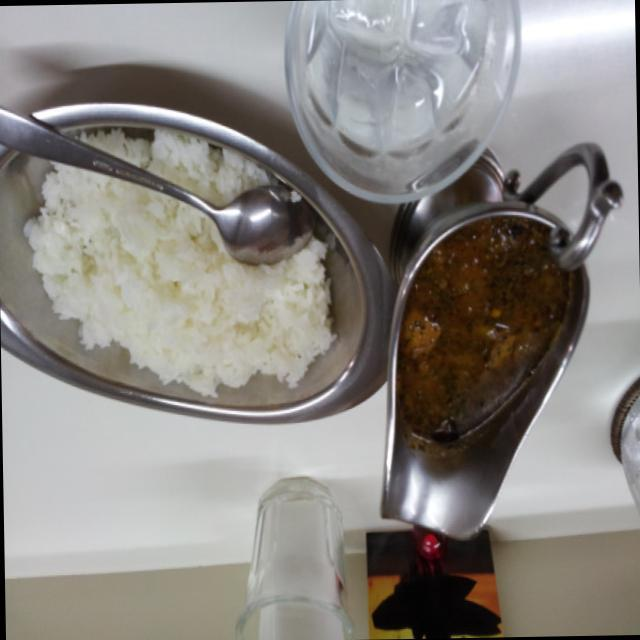Rice: (35, 142, 319, 406)
